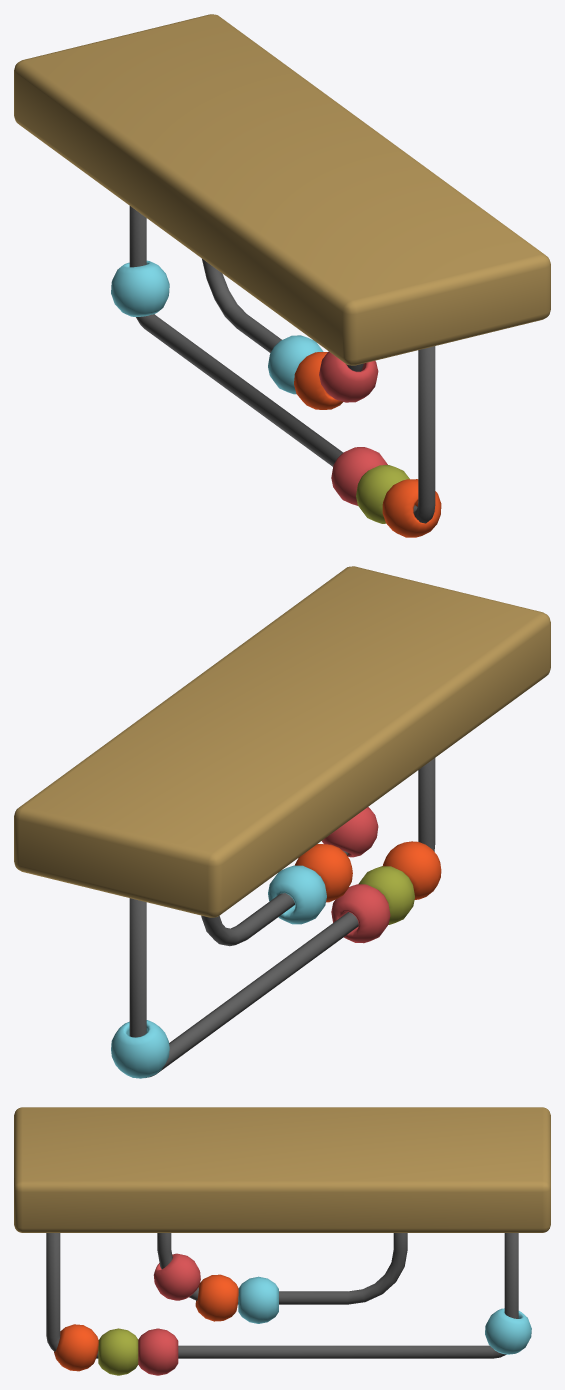
The model's file is slidertoy.fbx.
The picture shows the model from 3 angles, top to bottom: view 1: azimuth 30°, elevation 25°; view 2: azimuth 150°, elevation 25°; view 3: azimuth 270°, elevation 25°; orthographic projection. The views are drawn at different scales.
Parts seen in each view (by area): view 1: Cube, Cylinder, Sphere.006, Sphere.001, Sphere.003, Cylinder.001, Sphere.005, Sphere.004, Sphere.002, Sphere; view 2: Cube, Cylinder, Sphere.006, Sphere.004, Sphere.005, Sphere.001, Cylinder.001, Sphere, Sphere.002, Sphere.003; view 3: Cube, Cylinder, Cylinder.001, Sphere, Sphere.002, Sphere.004, Sphere.005, Sphere.001, Sphere.003, Sphere.006.
Boxes of the visible parts, x1,y1,x2,y2 form: Cube: [14, 14, 550, 365]; Cylinder: [129, 206, 435, 523]; Sphere.006: [111, 260, 169, 316]; Sphere.001: [382, 479, 441, 537]; Sphere.003: [319, 351, 378, 402]; Cylinder.001: [202, 259, 363, 371]; Sphere.005: [331, 447, 387, 505]; Sphere.004: [268, 335, 323, 394]; Sphere.002: [356, 465, 409, 523]; Sphere: [294, 352, 342, 409]; Cube: [14, 566, 550, 917]; Cylinder: [129, 758, 435, 1077]; Sphere.006: [111, 1020, 169, 1078]; Sphere.004: [268, 865, 326, 924]; Sphere.005: [331, 884, 390, 943]; Sphere.001: [383, 841, 441, 899]; Cylinder.001: [201, 850, 349, 946]; Sphere: [294, 844, 352, 902]; Sphere.002: [358, 866, 414, 924]; Sphere.003: [322, 807, 378, 857]; Cube: [14, 1107, 550, 1232]; Cylinder: [46, 1233, 518, 1358]; Cylinder.001: [157, 1233, 407, 1304]; Sphere: [195, 1274, 238, 1321]; Sphere.002: [98, 1328, 138, 1375]; Sphere.004: [238, 1276, 278, 1323]; Sphere.005: [138, 1328, 178, 1375]; Sphere.001: [54, 1324, 98, 1371]; Sphere.003: [153, 1253, 200, 1300]; Sphere.006: [485, 1308, 531, 1354].
Size of the model in its own units: 200 by 266 by 566.
